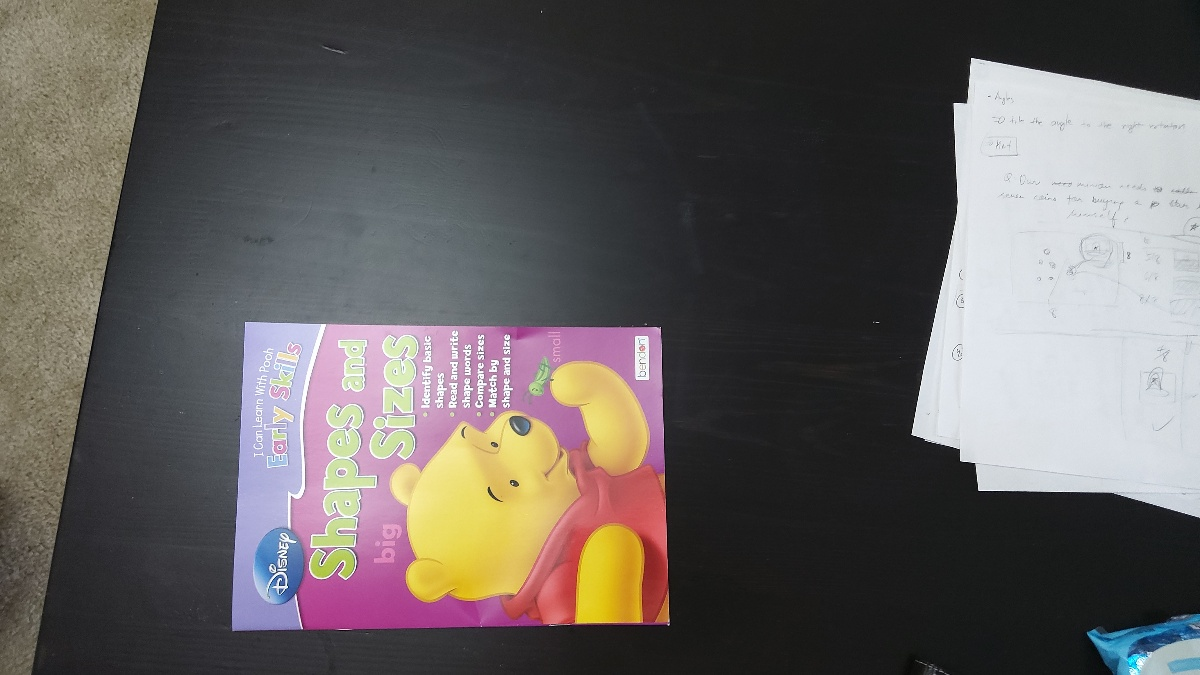book: (244, 321, 667, 624)
